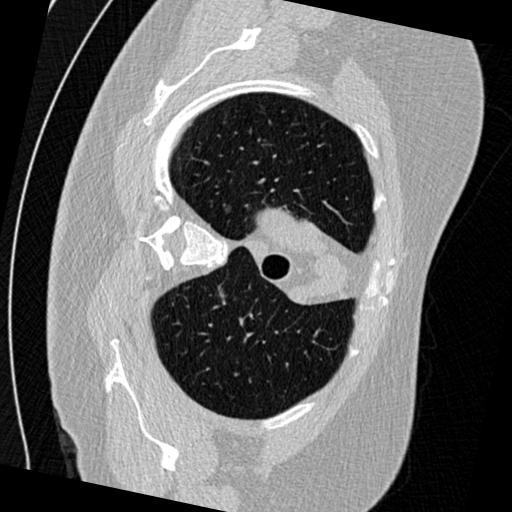nodule: (222, 205, 235, 218)
